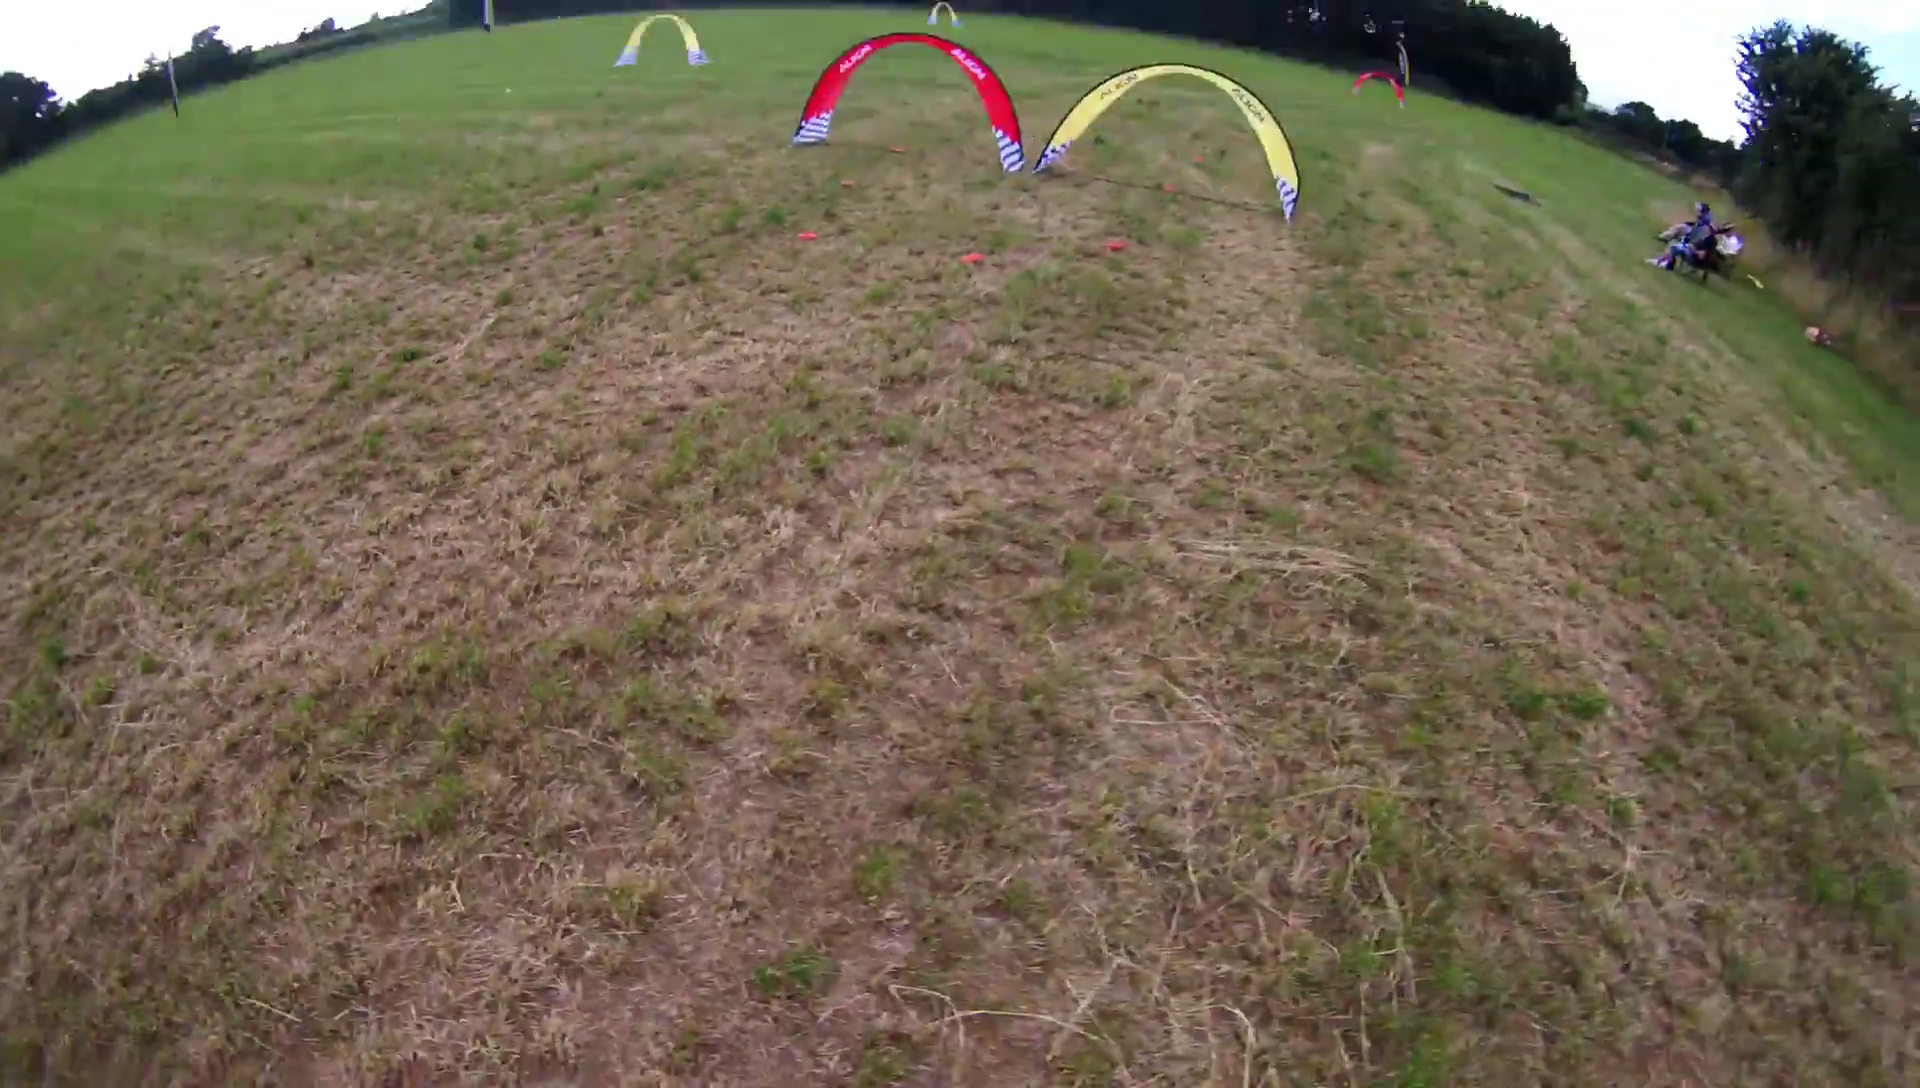gate: (1030, 62, 1305, 226), (789, 28, 1029, 174), (613, 12, 716, 69), (1349, 69, 1408, 112), (927, 1, 964, 30)
